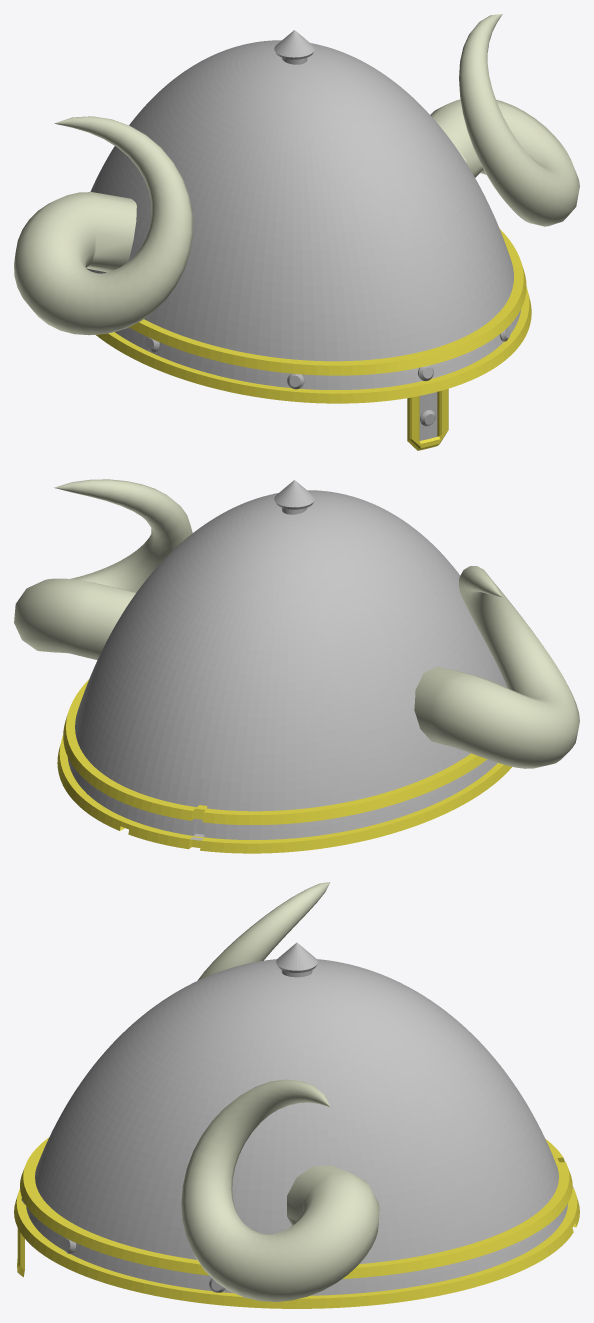
Rendered from VikingHelmet.glb.
The picture shows the model from 3 angles, top to bottom: view 1: azimuth 30°, elevation 25°; view 2: azimuth 150°, elevation 25°; view 3: azimuth 270°, elevation 25°; orthographic projection. The views are drawn at different scales.
Visible parts, largest first — view 1: Helmet, Horns, Tip; view 2: Helmet, Horns, Tip; view 3: Helmet, Horns, Tip.
Boxes of the visible parts, x1,y1,x2,y2 form: Helmet: (86, 40, 531, 450); Horns: (14, 14, 579, 335); Tip: (274, 30, 314, 59); Helmet: (57, 490, 512, 853); Horns: (14, 479, 579, 768); Tip: (274, 480, 314, 509); Helmet: (14, 959, 579, 1308); Horns: (181, 882, 379, 1301); Tip: (276, 942, 317, 972).
Size of the model in its own units: 26.81 by 15.24 by 23.68.
